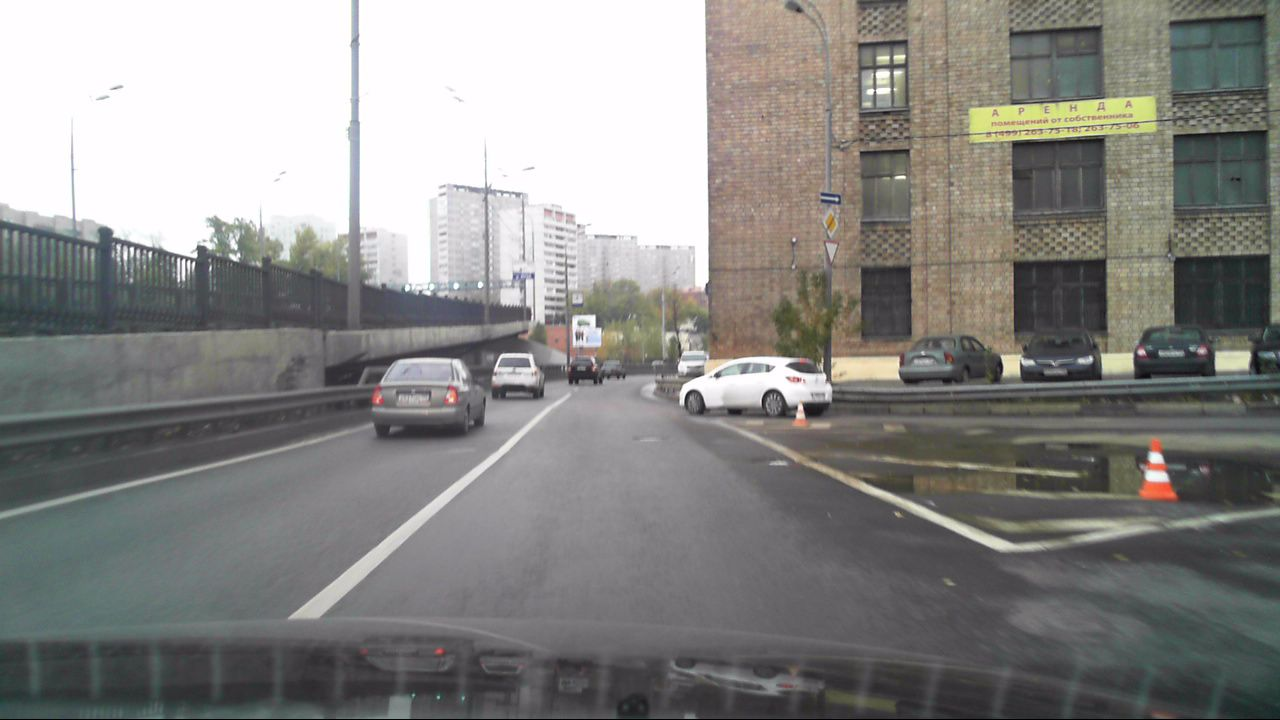main road: (818, 208, 842, 239)
